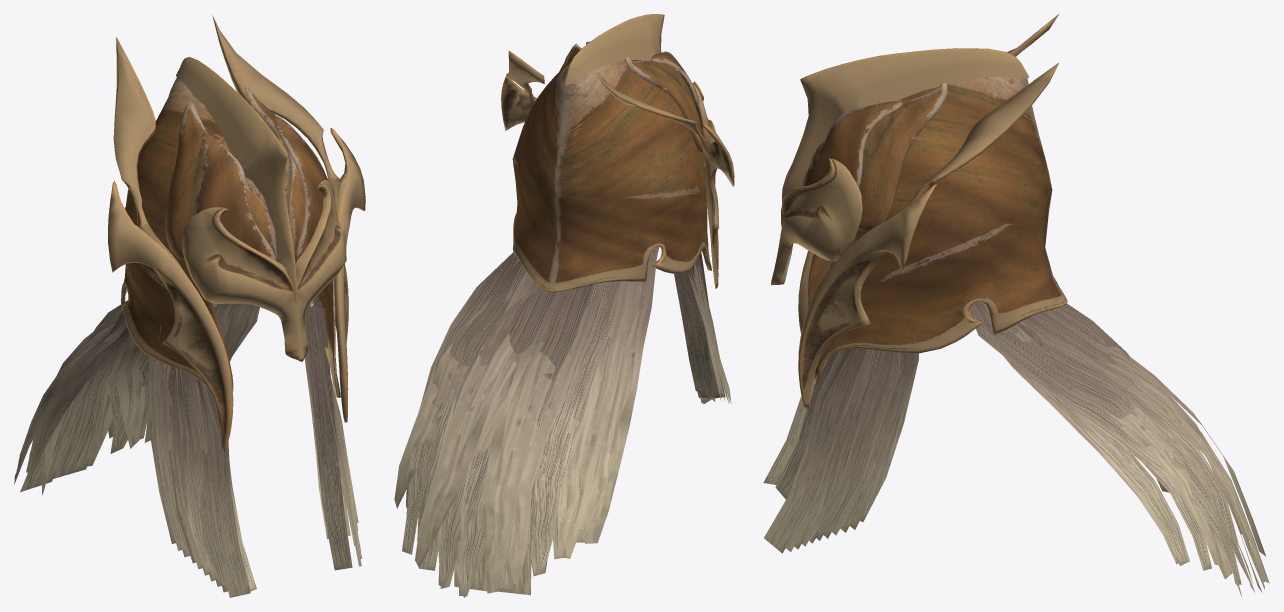
Rendered from mkwd_inf1_t4_helmet_bronze_hc.fbx.
The picture shows the model from 3 angles, left to right: view 1: azimuth 30°, elevation 25°; view 2: azimuth 150°, elevation 25°; view 3: azimuth 270°, elevation 25°; orthographic projection. The views are drawn at different scales.
Parts seen in each view (by area): view 1: mkwd_inf1_t4_helmet_bronze_hc.lod0.0, mkwd_inf1_t4_helmet_bronze_hc.lod0.1; view 2: mkwd_inf1_t4_helmet_bronze_hc.lod0.1, mkwd_inf1_t4_helmet_bronze_hc.lod0.0; view 3: mkwd_inf1_t4_helmet_bronze_hc.lod0.0, mkwd_inf1_t4_helmet_bronze_hc.lod0.1.
Boxes of the visible parts, x1,y1,x2,y2 form: mkwd_inf1_t4_helmet_bronze_hc.lod0.0: (108, 15, 365, 452); mkwd_inf1_t4_helmet_bronze_hc.lod0.1: (14, 297, 362, 597); mkwd_inf1_t4_helmet_bronze_hc.lod0.1: (394, 233, 731, 597); mkwd_inf1_t4_helmet_bronze_hc.lod0.0: (501, 14, 734, 292); mkwd_inf1_t4_helmet_bronze_hc.lod0.0: (771, 14, 1067, 408); mkwd_inf1_t4_helmet_bronze_hc.lod0.1: (763, 302, 1269, 596).
Size of the model in its own units: 0.2873 by 0.4703 by 0.558.
